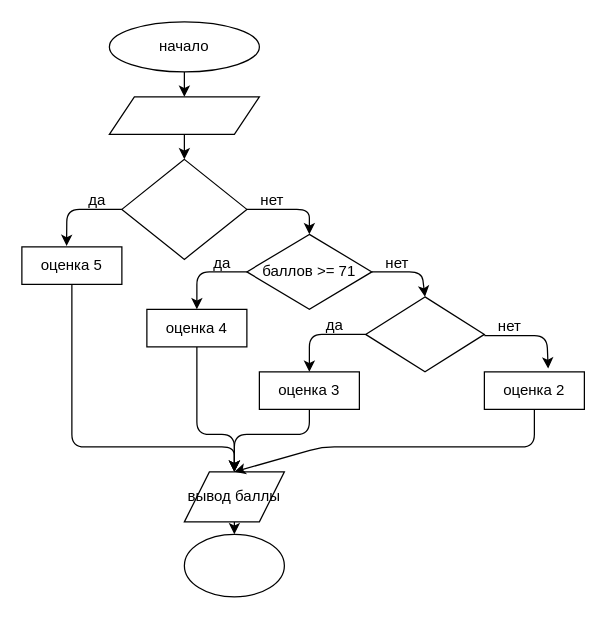
The diagram is 606 pixels wide and 619 high, and some of its shapes have lost their labels. Here are the shapes that lost their labels. From the top down, the centre of each, then its label:
the point at 183,115: ввод баллы
the point at 184,208: баллов >= 91
the point at 424,334: баллов >= 51
the point at 233,565: конец
